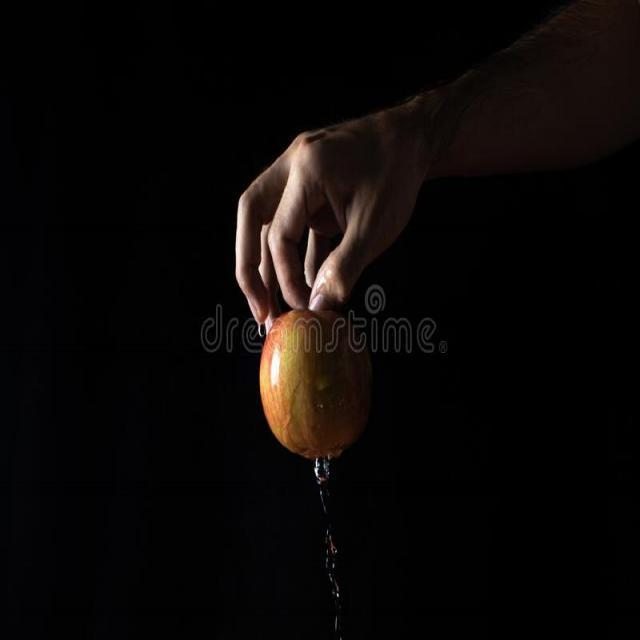Fresh Apple: (248, 298, 377, 467)
